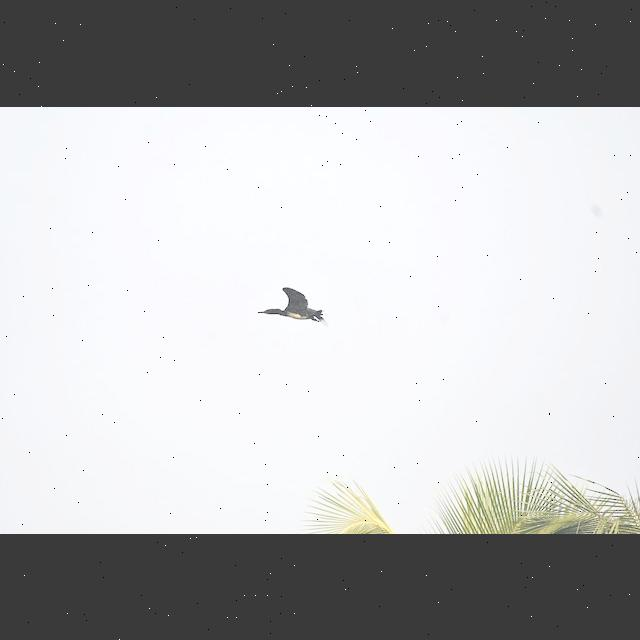cormorant: (256, 283, 326, 337)
